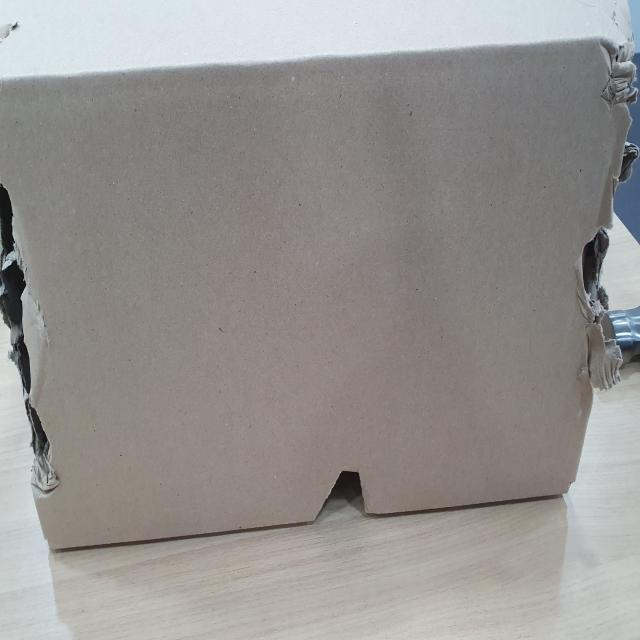hole: (1, 184, 41, 396), (308, 461, 372, 521), (581, 211, 609, 323), (27, 399, 64, 481)
